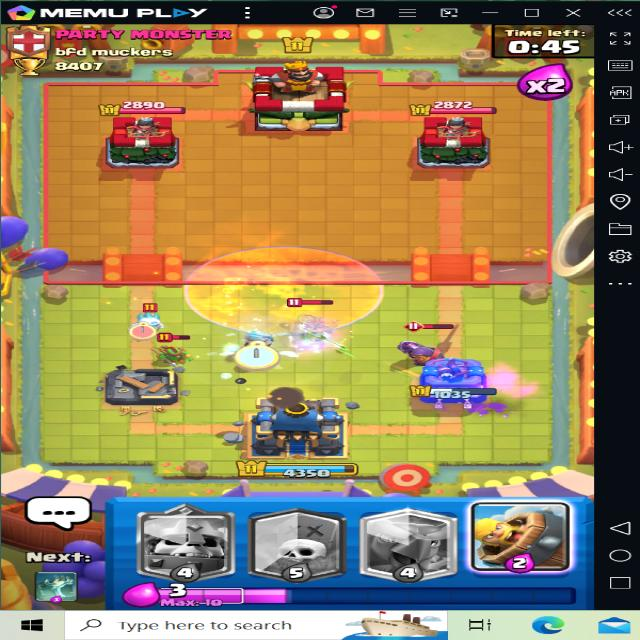archer-queen: (279, 298, 353, 353)
archer-queen-ability: (286, 303, 366, 354)
evo-knight: (390, 319, 459, 370)
ice-spirit: (127, 299, 174, 329)
spear-goblin: (150, 337, 186, 366)
